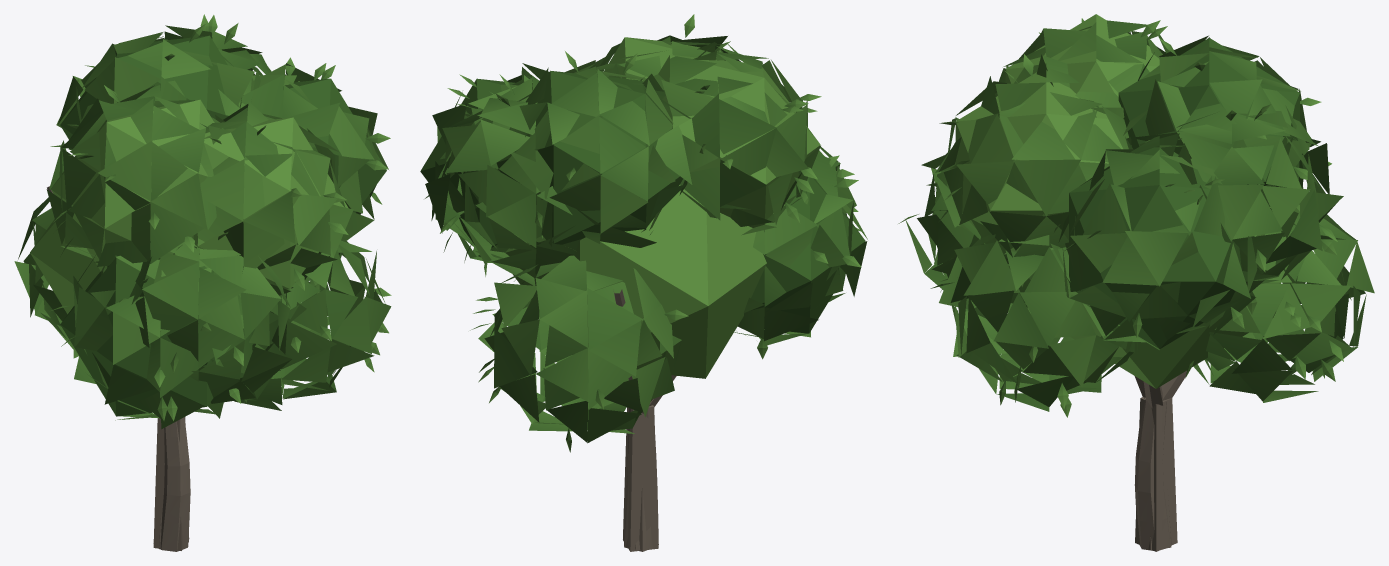
The model's file is walnut.glb.
3 views of the same model, side by side, from view 1: azimuth 30°, elevation 25°; view 2: azimuth 150°, elevation 25°; view 3: azimuth 270°, elevation 25° (orthographic). The views are drawn at different scales.
Visible parts, largest first — view 1: leaves (×3), trunk; view 2: leaves (×3), trunk; view 3: leaves (×3), trunk.
Boxes of the visible parts, x1,y1,x2,y2 form: leaves (×3): (14,14,391,550); trunk: (47,186,190,551); leaves (×3): (420,14,867,551); trunk: (613,289,676,550); leaves (×3): (898,14,1374,551); trunk: (1134,370,1186,550).
Size of the model in its own units: 0.7802 by 1 by 0.8482.
